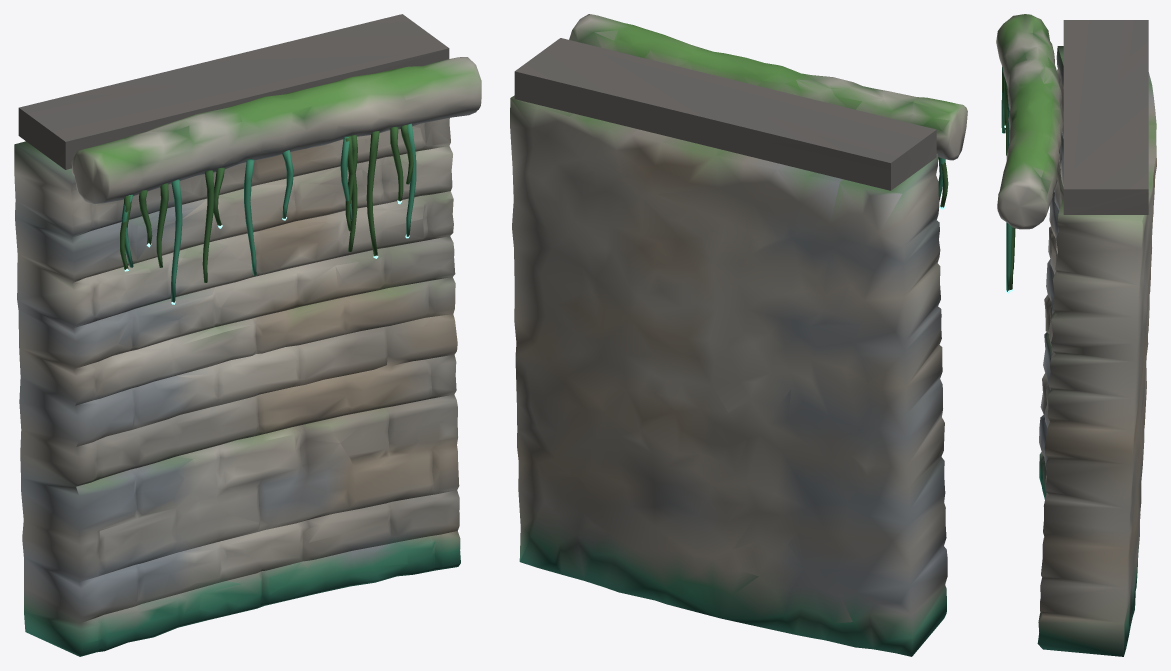
File: grotto_basin_wall_c_lod1.glb
3 views of the same model, side by side, from view 1: azimuth 30°, elevation 25°; view 2: azimuth 150°, elevation 25°; view 3: azimuth 270°, elevation 25° (orthographic). The views are drawn at different scales.
Parts seen in each view (by area): view 1: grotto_basin_wall_c.001; view 2: grotto_basin_wall_c.001; view 3: grotto_basin_wall_c.001.
Part boxes in pixels (x1,y1,x2,y2): grotto_basin_wall_c.001: [14, 14, 481, 656]; grotto_basin_wall_c.001: [510, 14, 967, 656]; grotto_basin_wall_c.001: [996, 14, 1156, 656].
Bounding box in the file's own units: 29.71 × 36.81 × 11.39.
